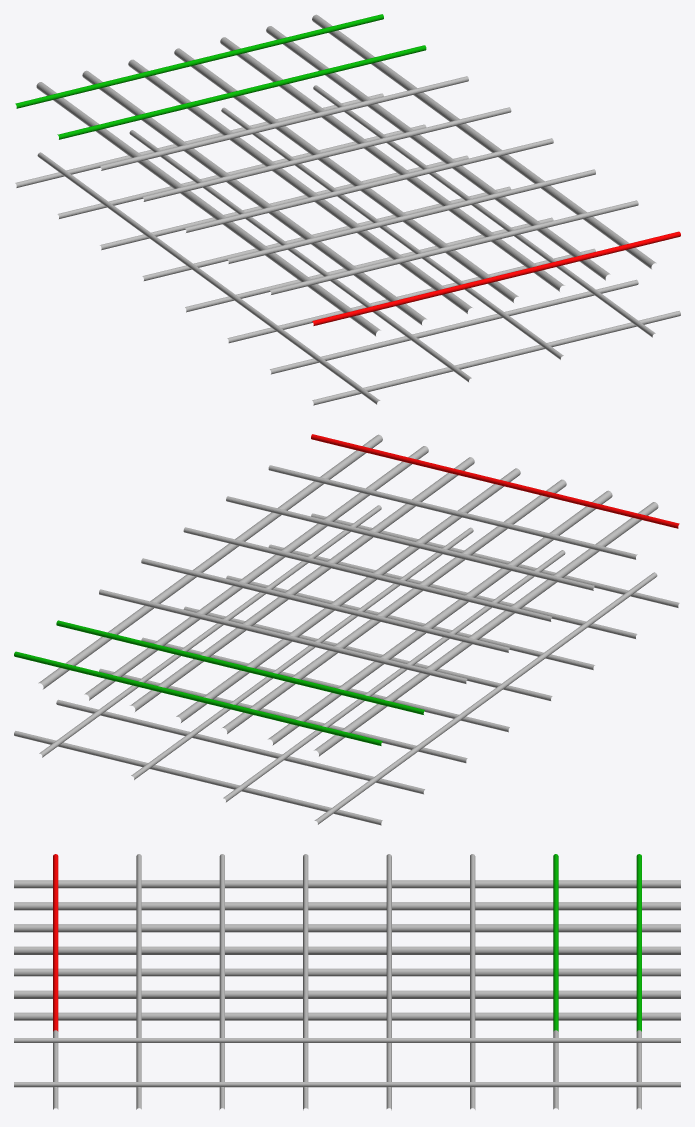
The model's file is construction_qc_model.glb.
The picture shows the model from 3 angles, top to bottom: view 1: azimuth 30°, elevation 25°; view 2: azimuth 150°, elevation 25°; view 3: azimuth 270°, elevation 25°; orthographic projection.
Parts seen in each view (by area): view 1: world; view 2: world; view 3: world.
Boxes of the visible parts, <box> form: world: <box>15,14,680,405</box>; world: <box>14,434,679,825</box>; world: <box>14,854,680,1110</box>.
Bounding box in the file's own units: 1 × 0.2189 × 1.6.
